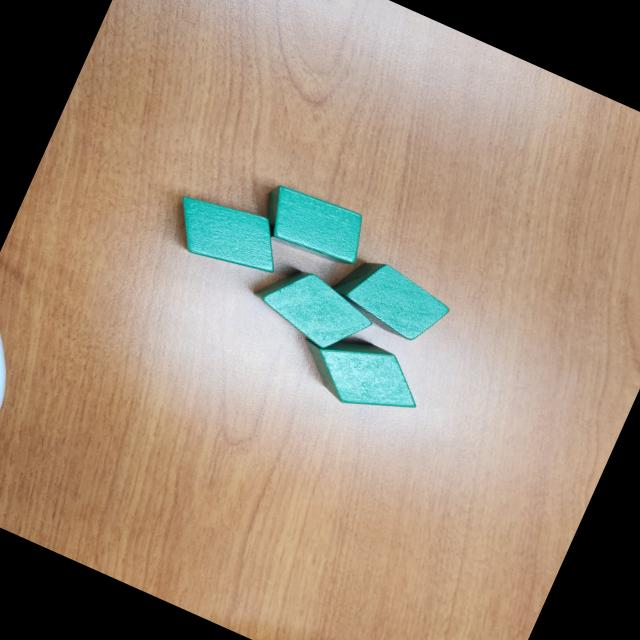green: (292, 320, 434, 432), (243, 254, 379, 362), (164, 182, 294, 288), (325, 248, 456, 350), (251, 176, 373, 273)
